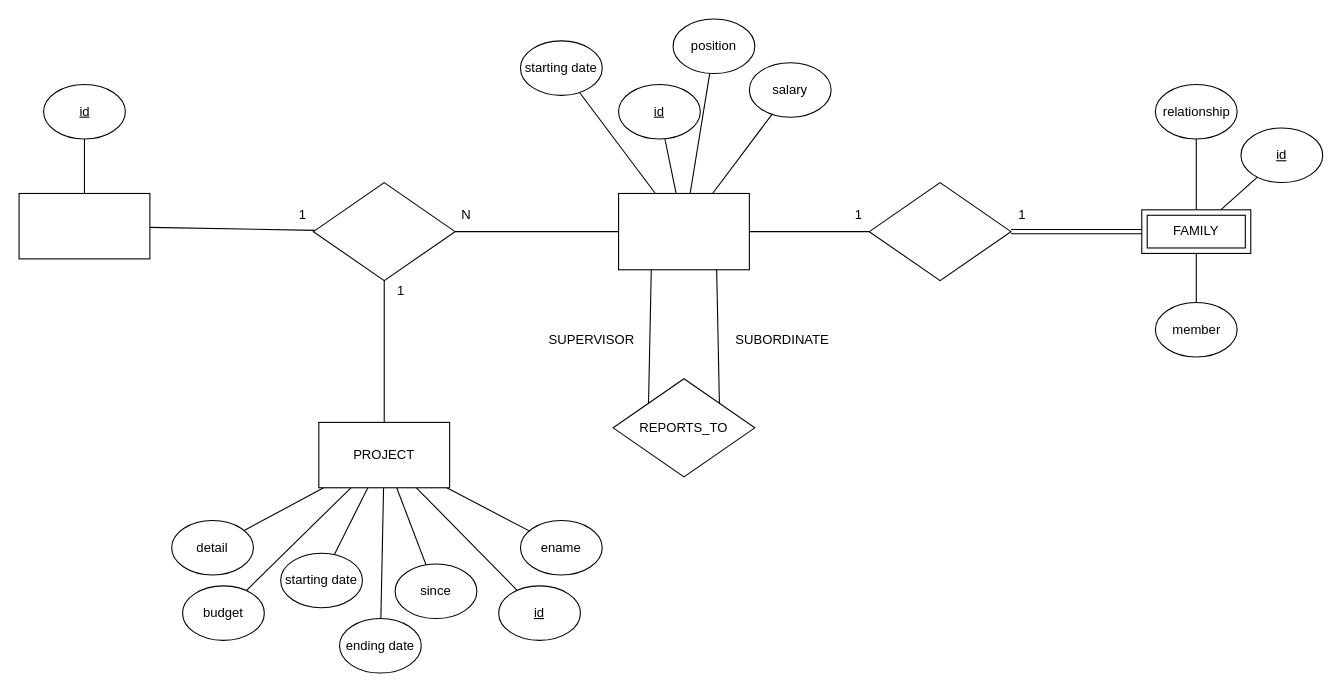
Some shapes in this 1342 by 692 pixel diagram are drawn without their labels. The shapes that lost their labels are listed below. From the top down, each one's centre as x and y in pixels, then its label:
point (84, 225): DEPARTMENT
point (383, 231): WORKS IN
point (683, 231): EMPLOYEES
point (939, 231): IN
